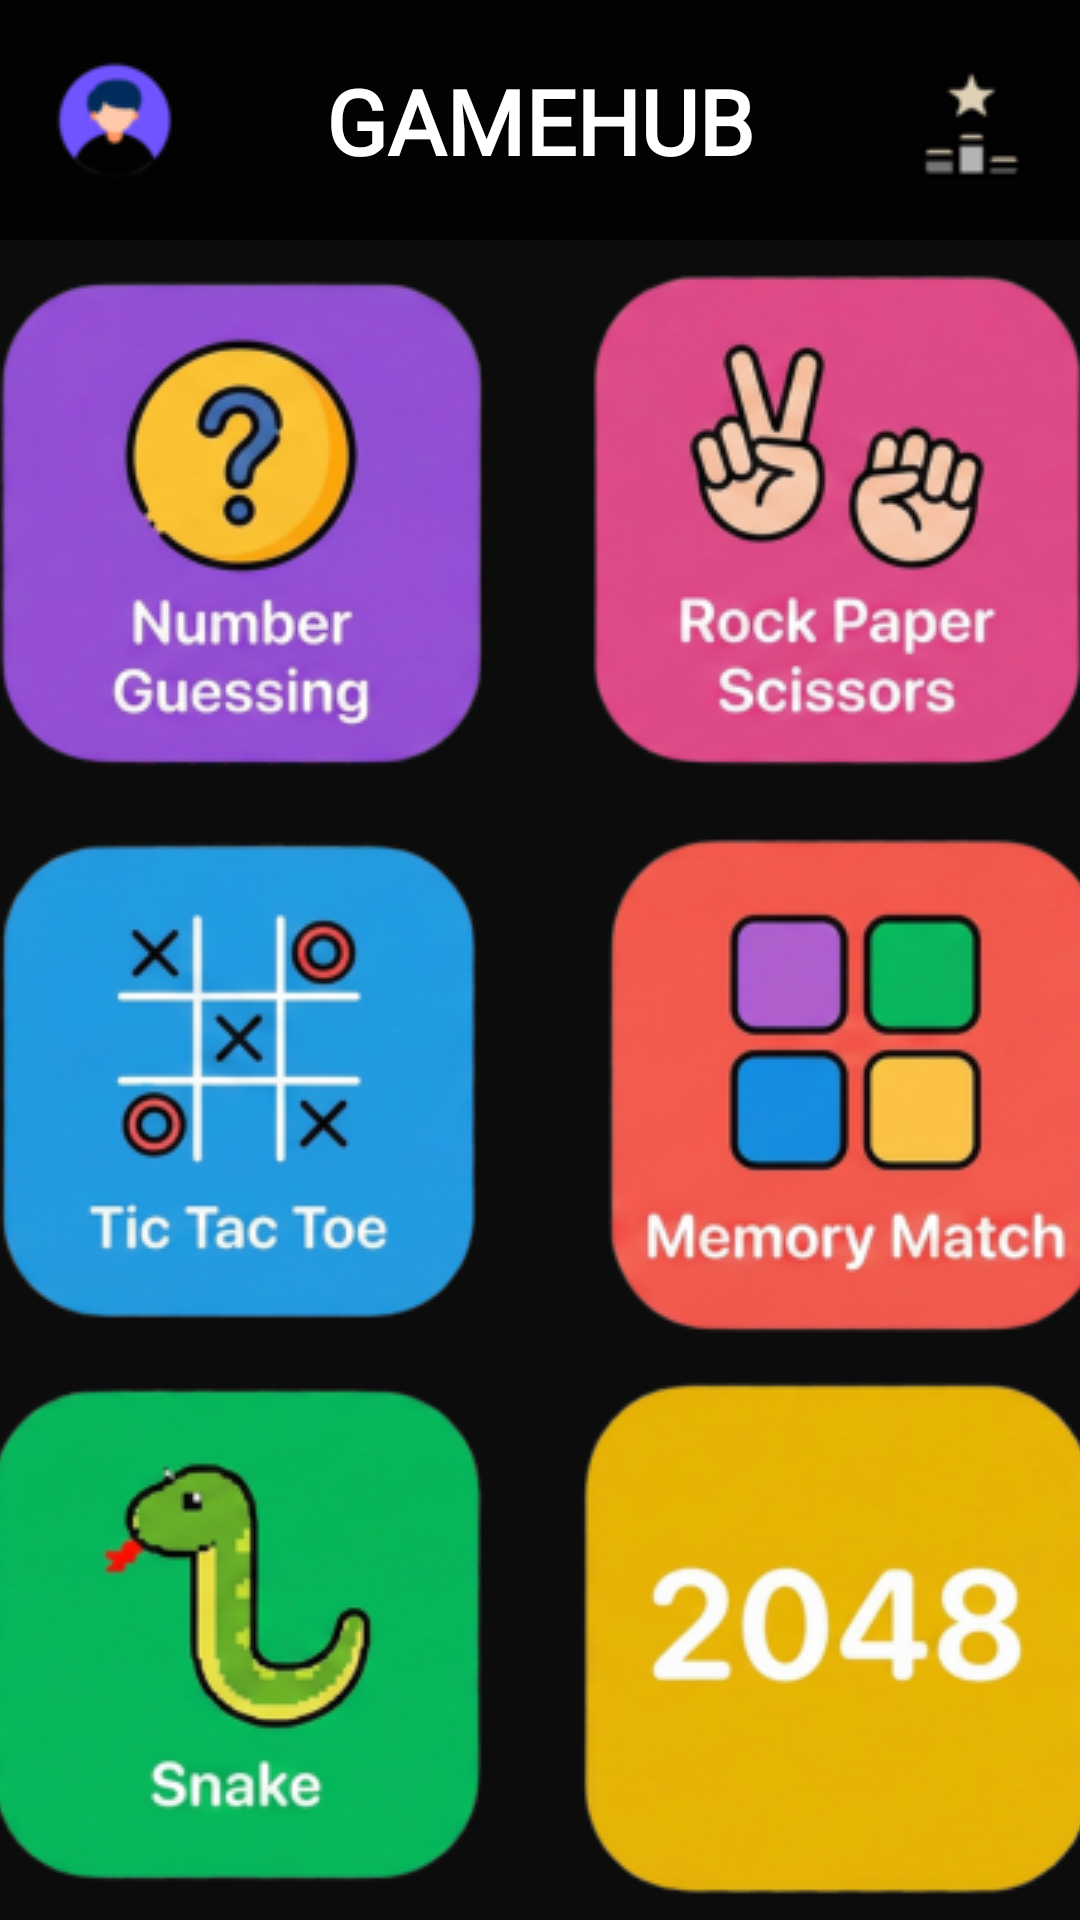

Screen size 1080 x 1920. Icon name, then its box in pixels as (x1=x1, y1=y1, x2=x2, y2=y2):
leaderboard: (x1=925, y1=74, x2=1019, y2=175)
user: (x1=57, y1=62, x2=172, y2=160)
